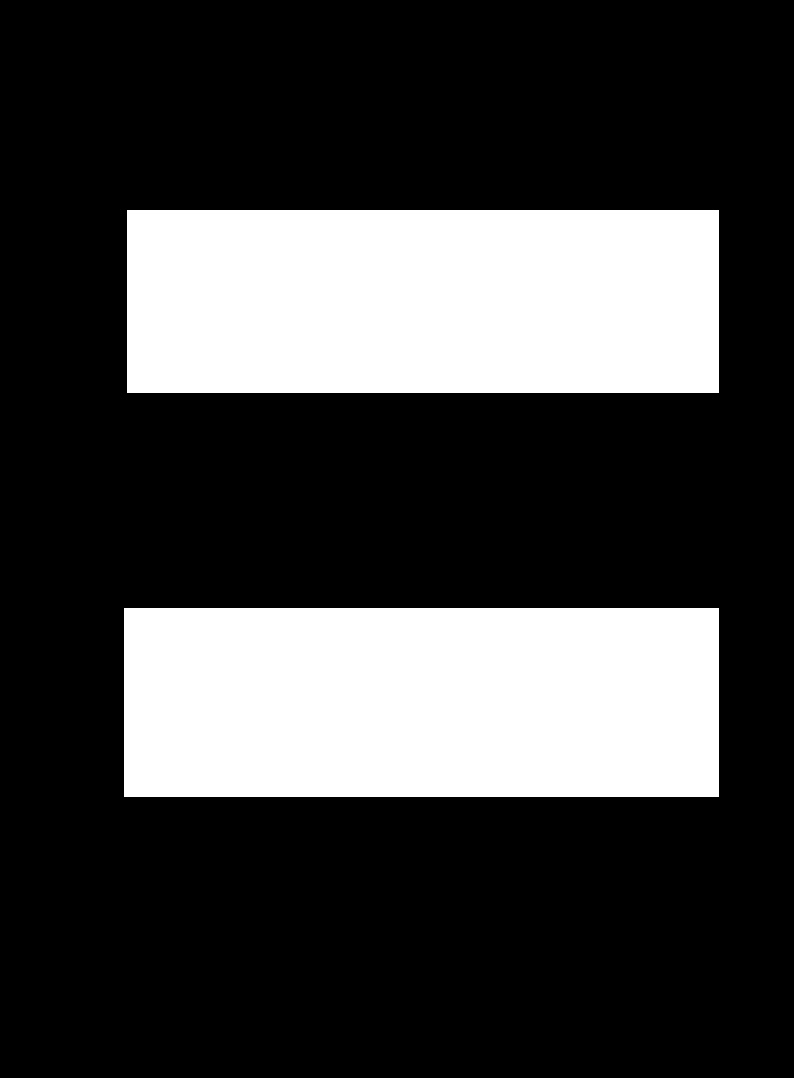table: (124, 608, 718, 796), (127, 210, 718, 392)
